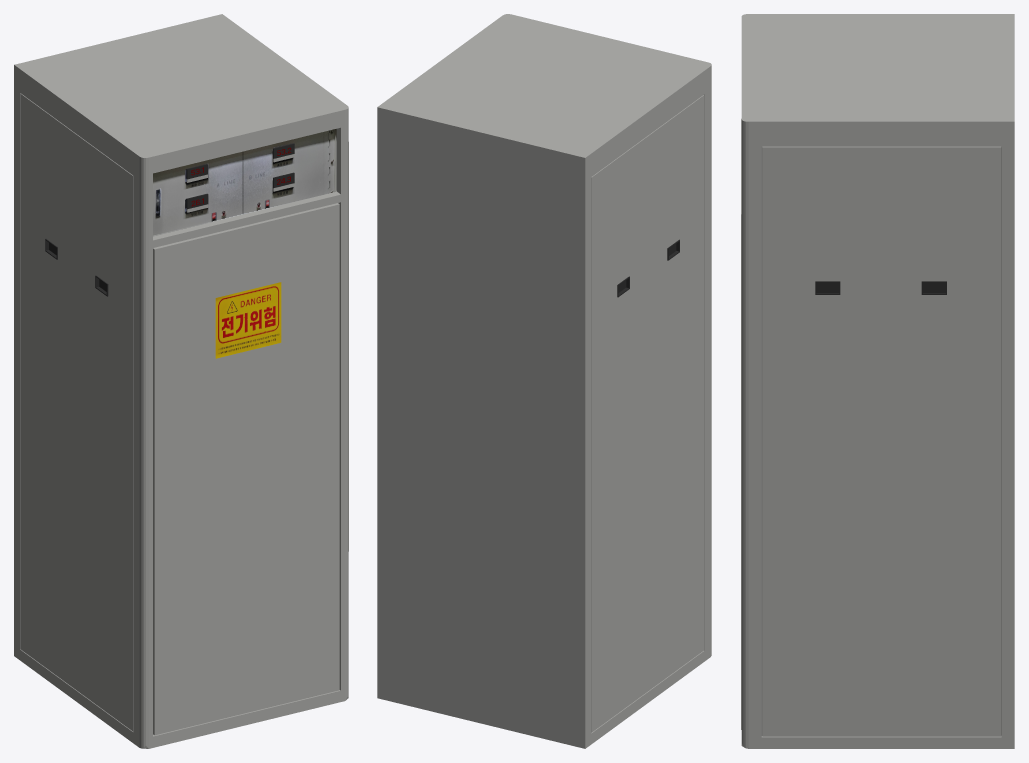
3 views of the same model, side by side, from view 1: azimuth 30°, elevation 25°; view 2: azimuth 150°, elevation 25°; view 3: azimuth 270°, elevation 25° (orthographic). The views are drawn at different scales.
Parts seen in each view (by area): view 1: PDR(직류분전반) 80회로 이중화_KRN008; view 2: PDR(직류분전반) 80회로 이중화_KRN008; view 3: PDR(직류분전반) 80회로 이중화_KRN008.
Boxes of the visible parts, x1,y1,x2,y2 form: PDR(직류분전반) 80회로 이중화_KRN008: (14, 14, 348, 748); PDR(직류분전반) 80회로 이중화_KRN008: (377, 14, 711, 748); PDR(직류분전반) 80회로 이중화_KRN008: (741, 14, 1014, 748).
Bounding box in the file's own units: 0.706 × 1.9 × 0.7533.
Materials: 5 (2 with a texture image).
